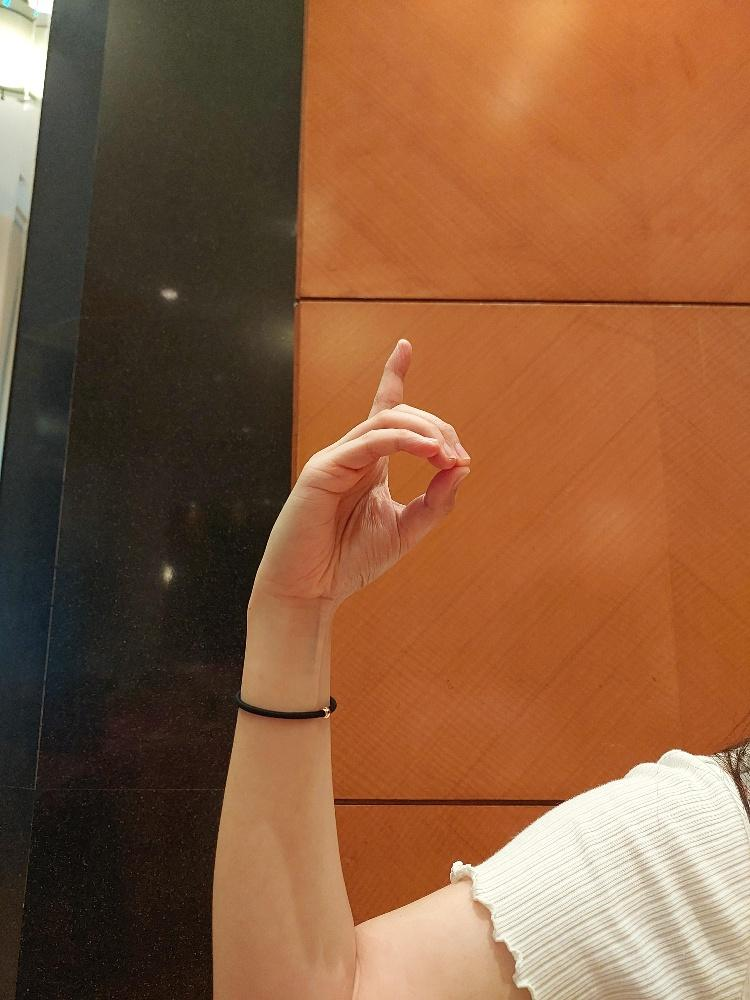d: (283, 336, 471, 605)
